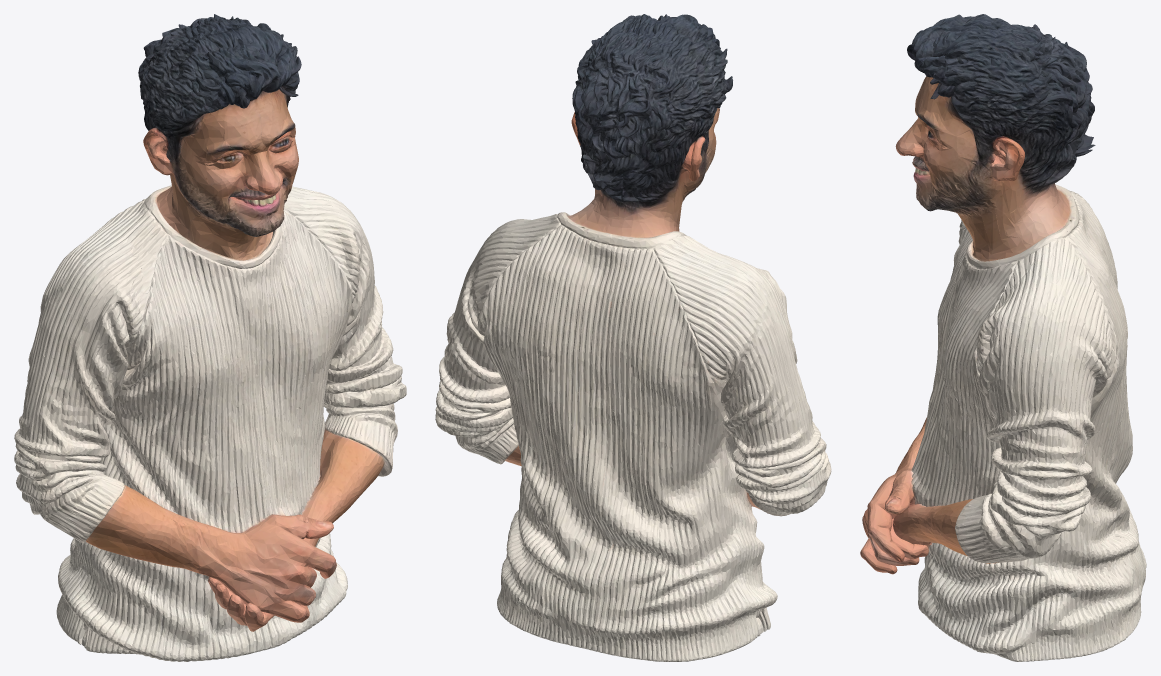
The model's file is portrait.glb.
The picture shows the model from 3 angles, left to right: view 1: azimuth 30°, elevation 25°; view 2: azimuth 150°, elevation 25°; view 3: azimuth 270°, elevation 25°; orthographic projection. The views are drawn at different scales.
Visible parts, largest first — view 1: model; view 2: model; view 3: model.
Part boxes in pixels (bbox=[...]): model: bbox=[14, 14, 406, 661]; model: bbox=[435, 14, 831, 661]; model: bbox=[860, 14, 1146, 661].
Size of the model in its own units: 1.27 by 1.9 by 0.8496.
1 material, 1 textured.
